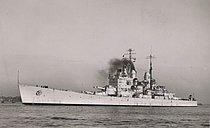MIL_Ship: (16, 56, 199, 107)
